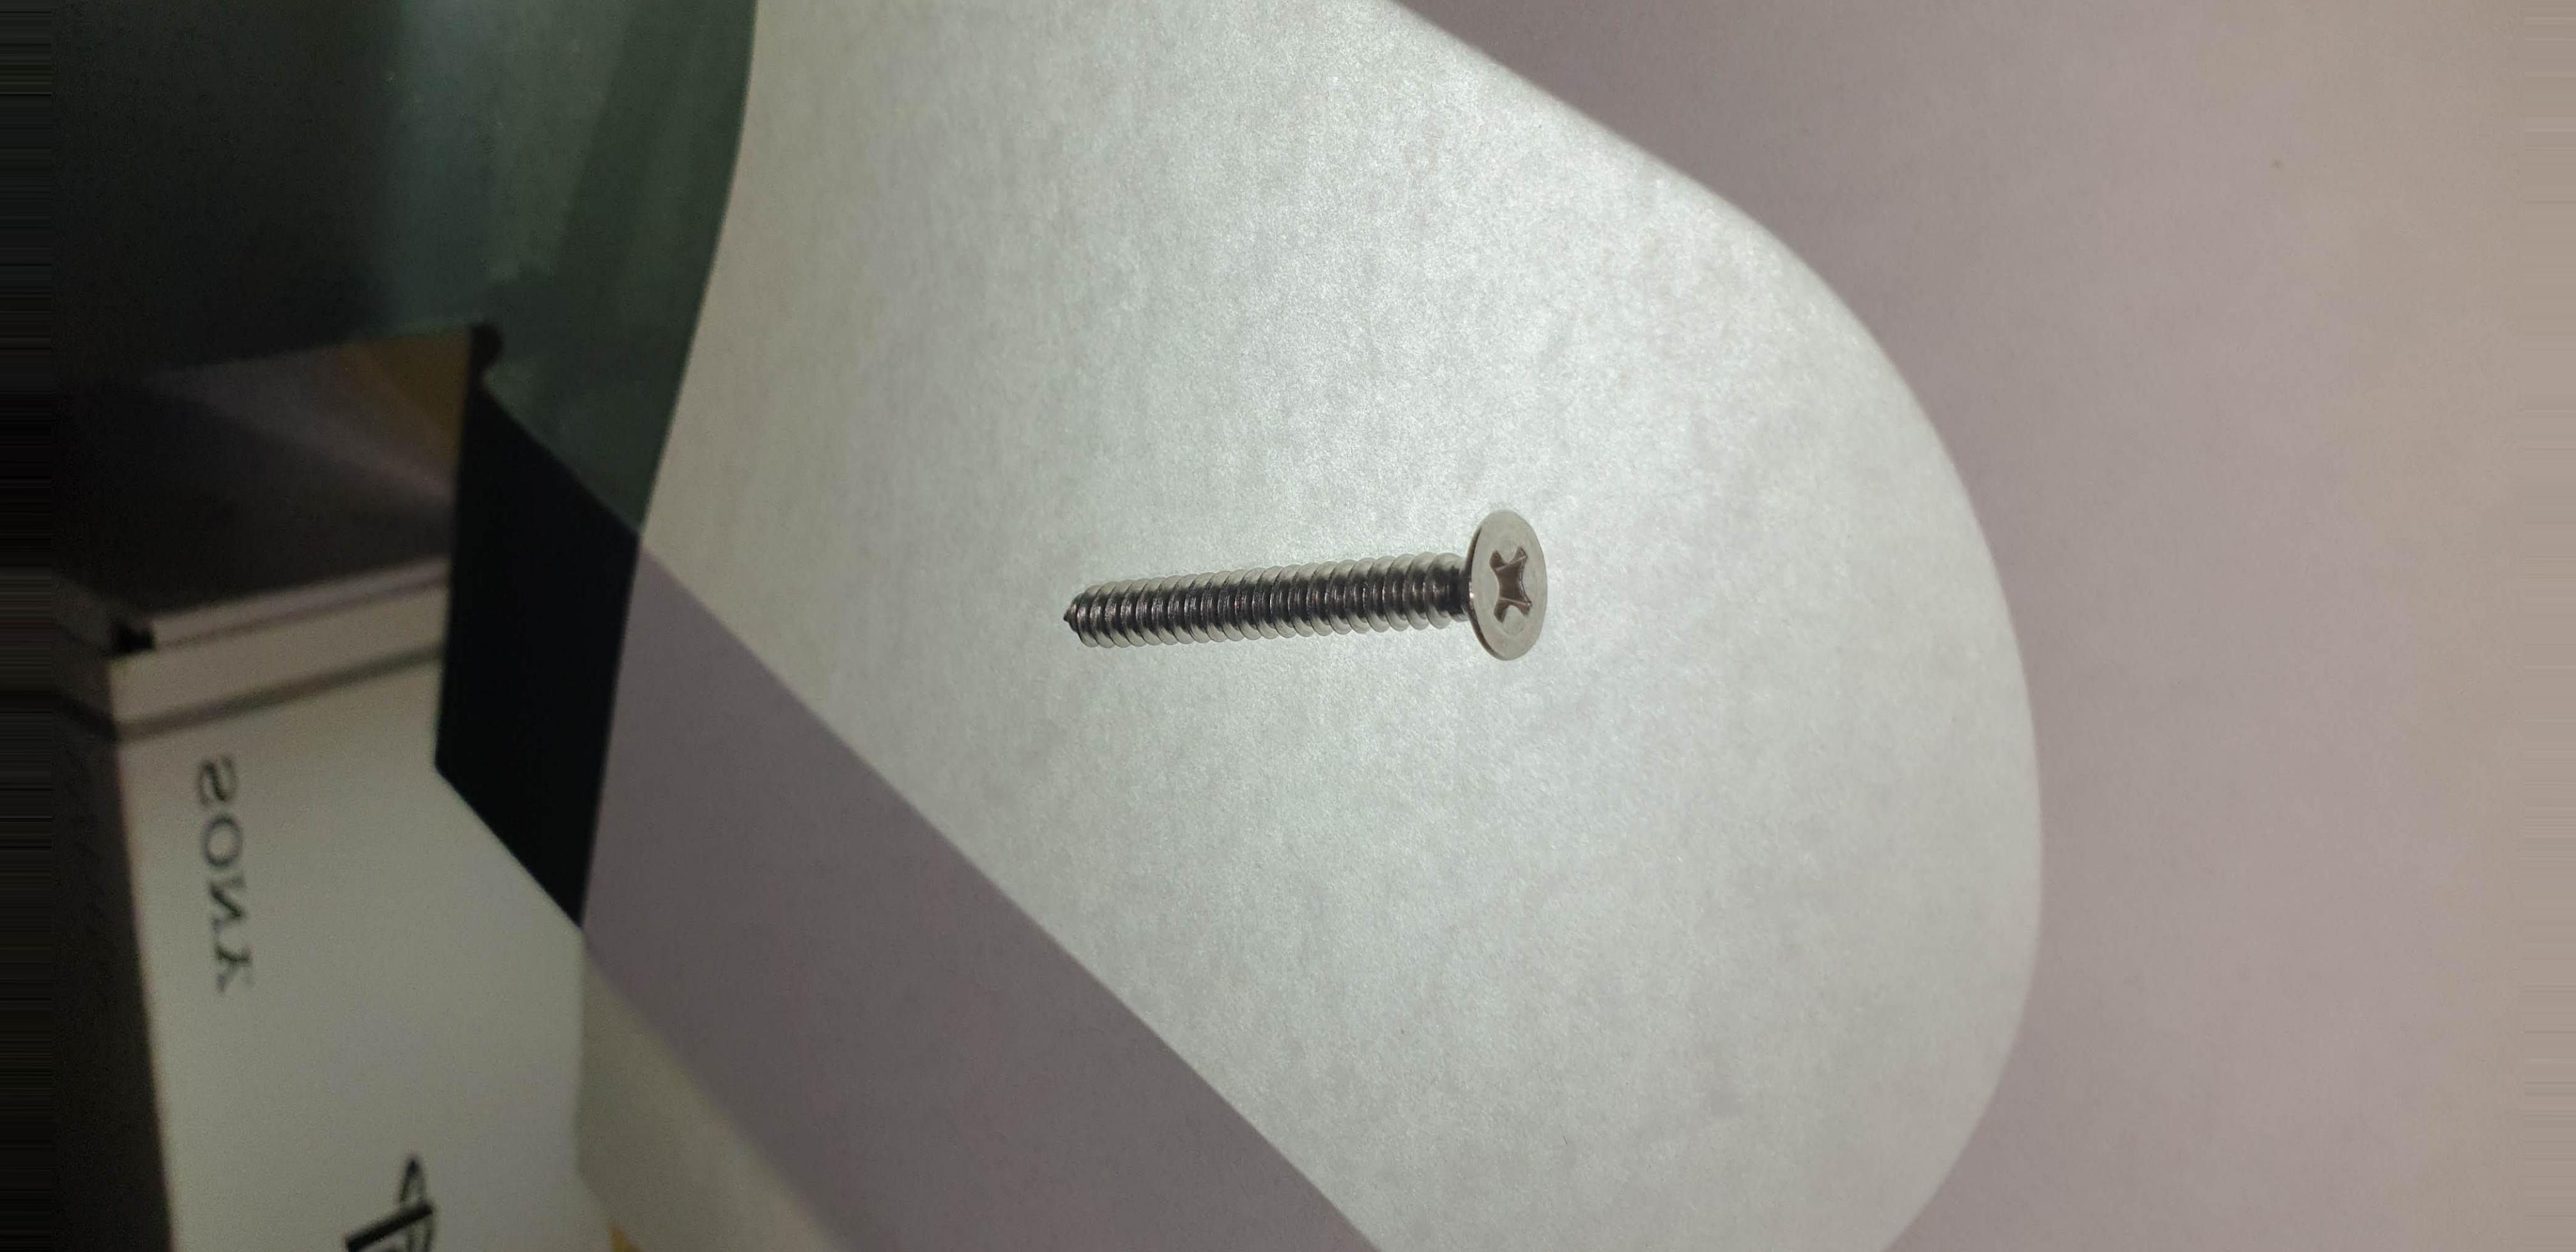fastener: (1033, 491, 1643, 690)
